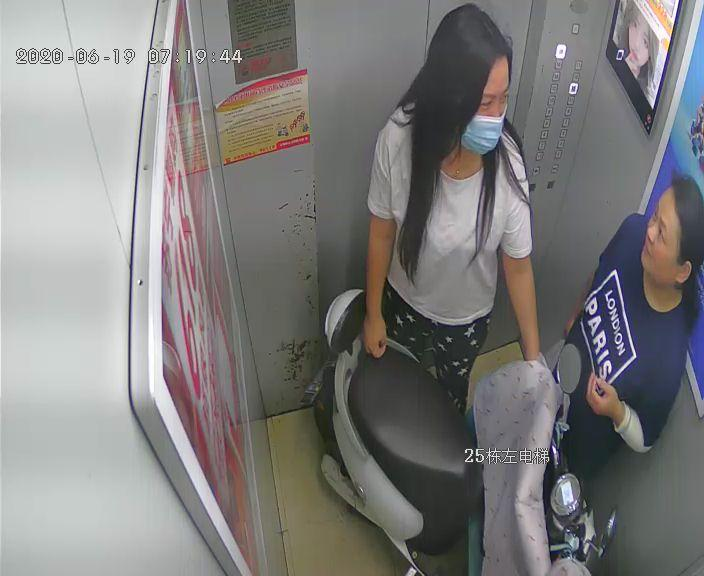Electric-bicycle: (324, 292, 619, 571)
